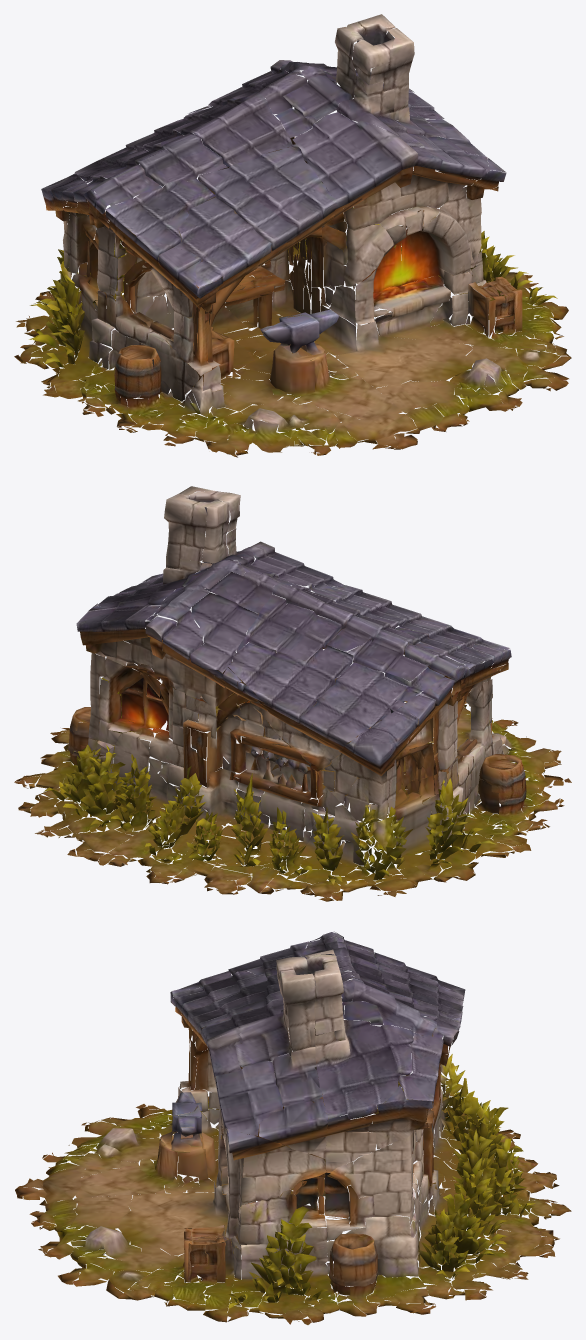
File: artisanat_t2.glb
3 renders of one model, top to bottom at view 1: azimuth 30°, elevation 25°; view 2: azimuth 150°, elevation 25°; view 3: azimuth 270°, elevation 25°, orthographic. The views are drawn at different scales.
Parts seen in each view (by area): view 1: artisanat_t2; view 2: artisanat_t2; view 3: artisanat_t2.
Part boxes in pixels (x1,y1,x2,y2): artisanat_t2: (14,14,571,457); artisanat_t2: (14,486,571,901); artisanat_t2: (15,931,571,1324).
Size of the model in its own units: 0.9989 by 0.556 by 0.9737.
Materials: 1 (1 with a texture image).
